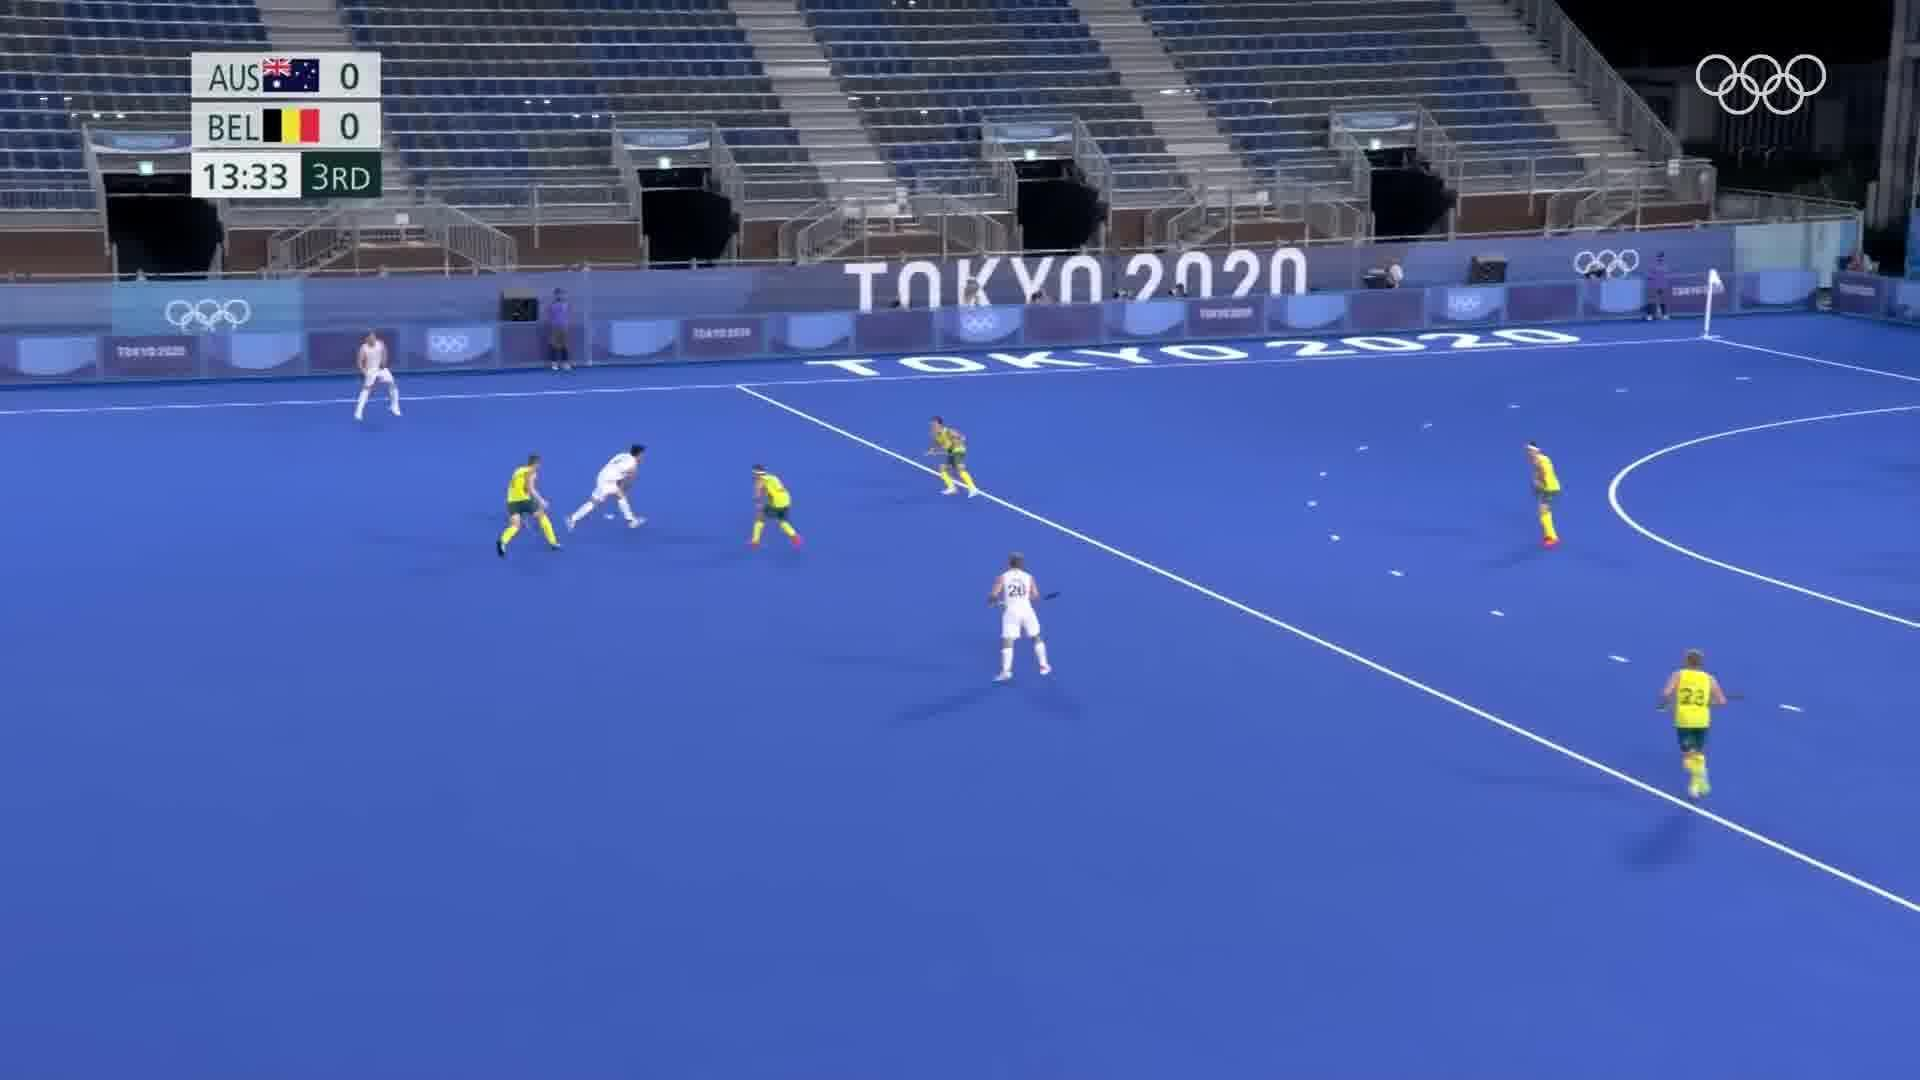ball: (604, 509, 616, 522)
